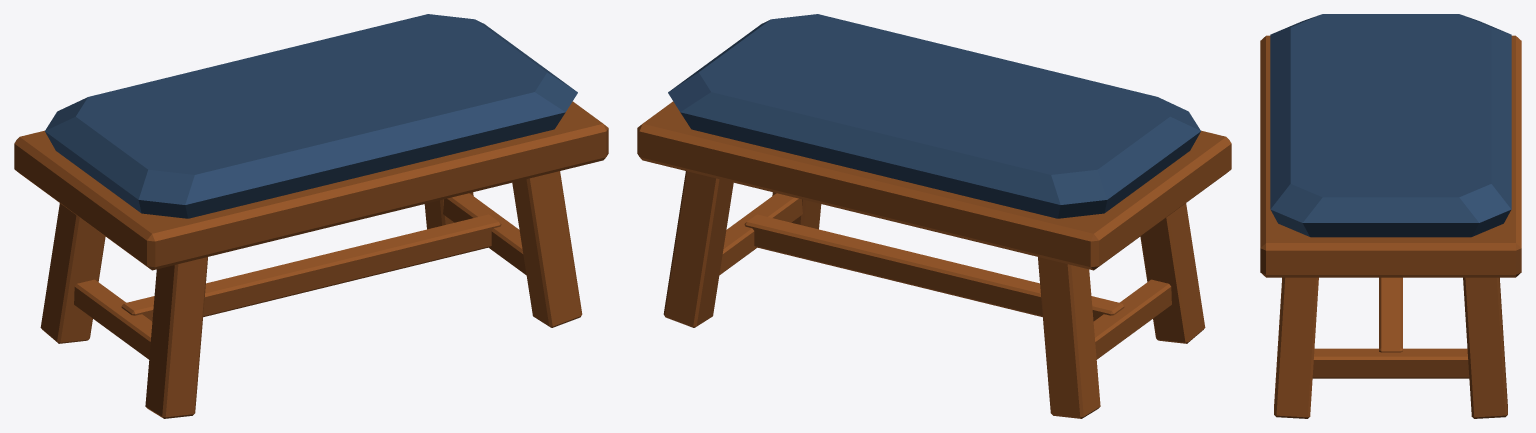
File: ES_16_Upholstered_Entry_Footrest.fbx
3 renders of one model, left to right at view 1: azimuth 30°, elevation 25°; view 2: azimuth 150°, elevation 25°; view 3: azimuth 270°, elevation 25°, orthographic. The views are drawn at different scales.
Visible parts, largest first — view 1: ES_16_Upholstered_Entry_Footrest; view 2: ES_16_Upholstered_Entry_Footrest; view 3: ES_16_Upholstered_Entry_Footrest.
Boxes of the visible parts, box(x1,y1,x2,y2) form: ES_16_Upholstered_Entry_Footrest: box(14, 14, 608, 418); ES_16_Upholstered_Entry_Footrest: box(637, 14, 1231, 418); ES_16_Upholstered_Entry_Footrest: box(1260, 14, 1521, 418).
Size of the model in its own units: 2.5 by 1.21 by 1.3.
